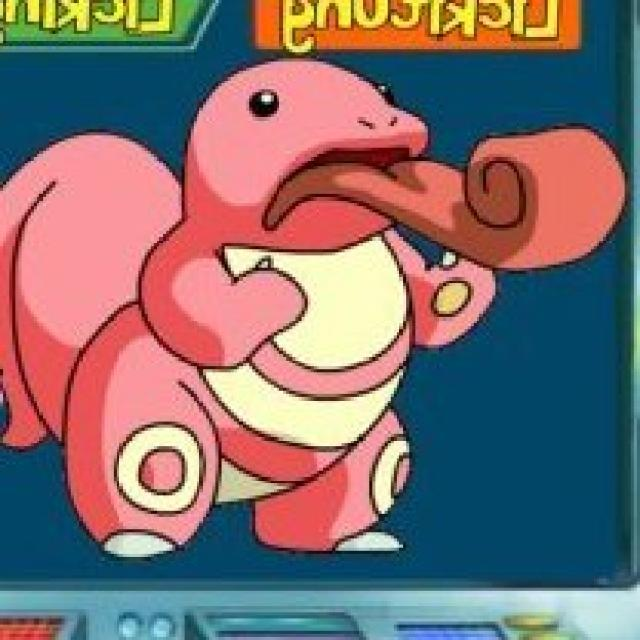Lickitung: (47, 49, 512, 556)
